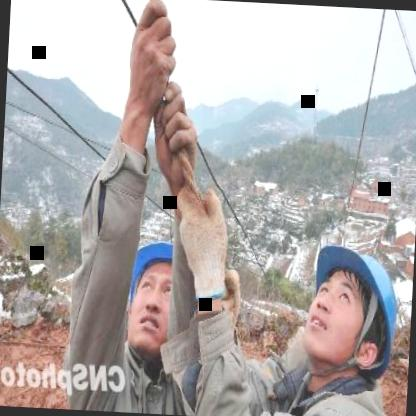helmet: (294, 231, 400, 381), (124, 222, 192, 360)
